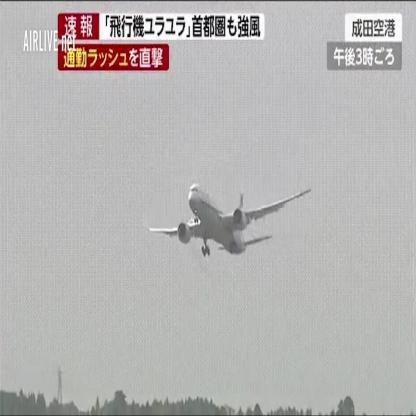CIV_Plane: (146, 171, 311, 263)
